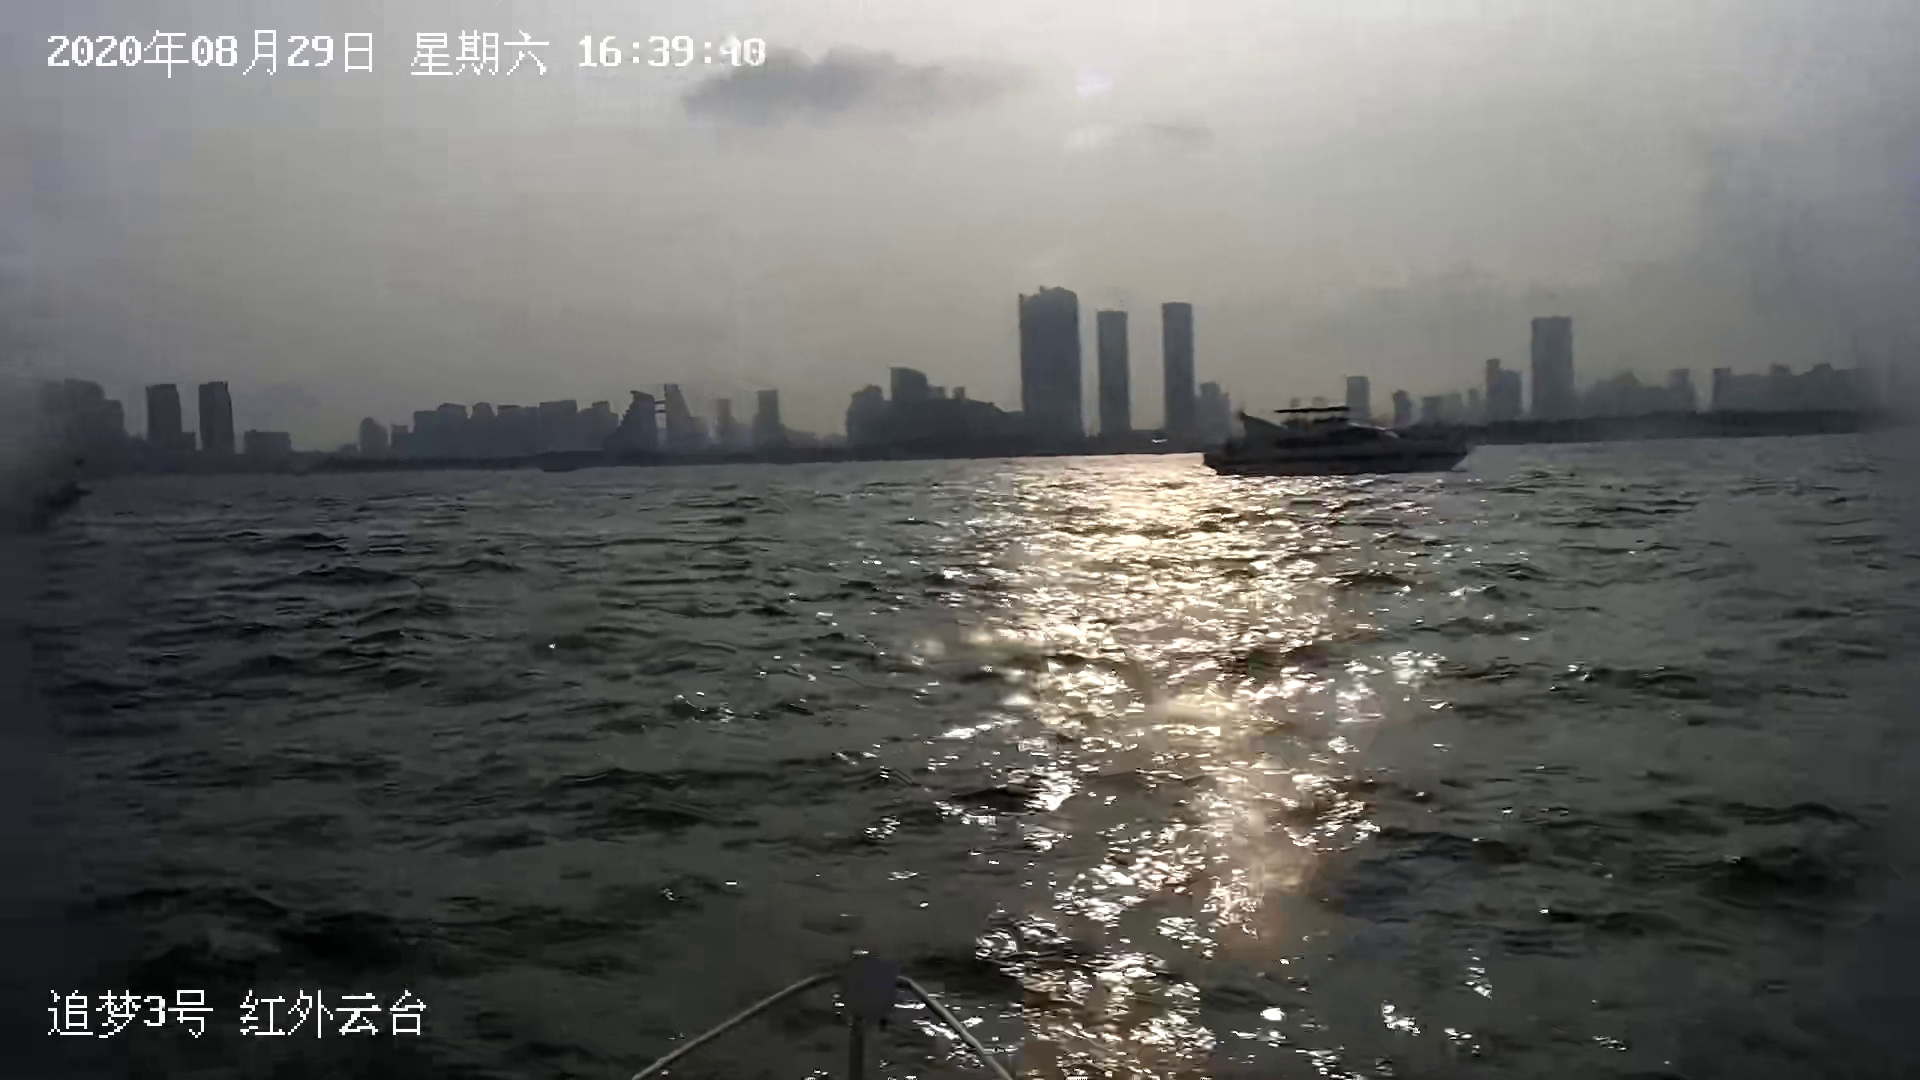barrier: (1192, 398, 1480, 475)
coast: (3, 276, 1913, 487)
